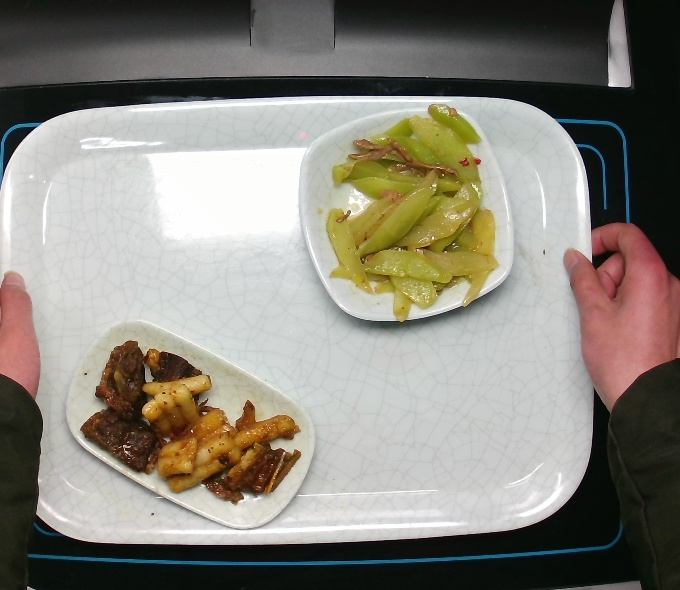wcq-NianGaoZaiPai: (80, 331, 312, 509)
wcq-WoSun: (319, 102, 499, 324)
